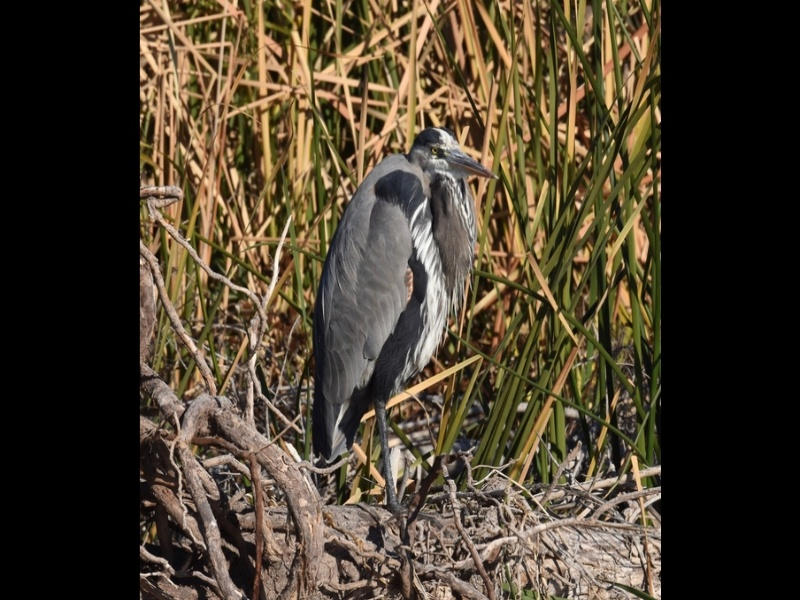heron: (309, 123, 497, 511)
